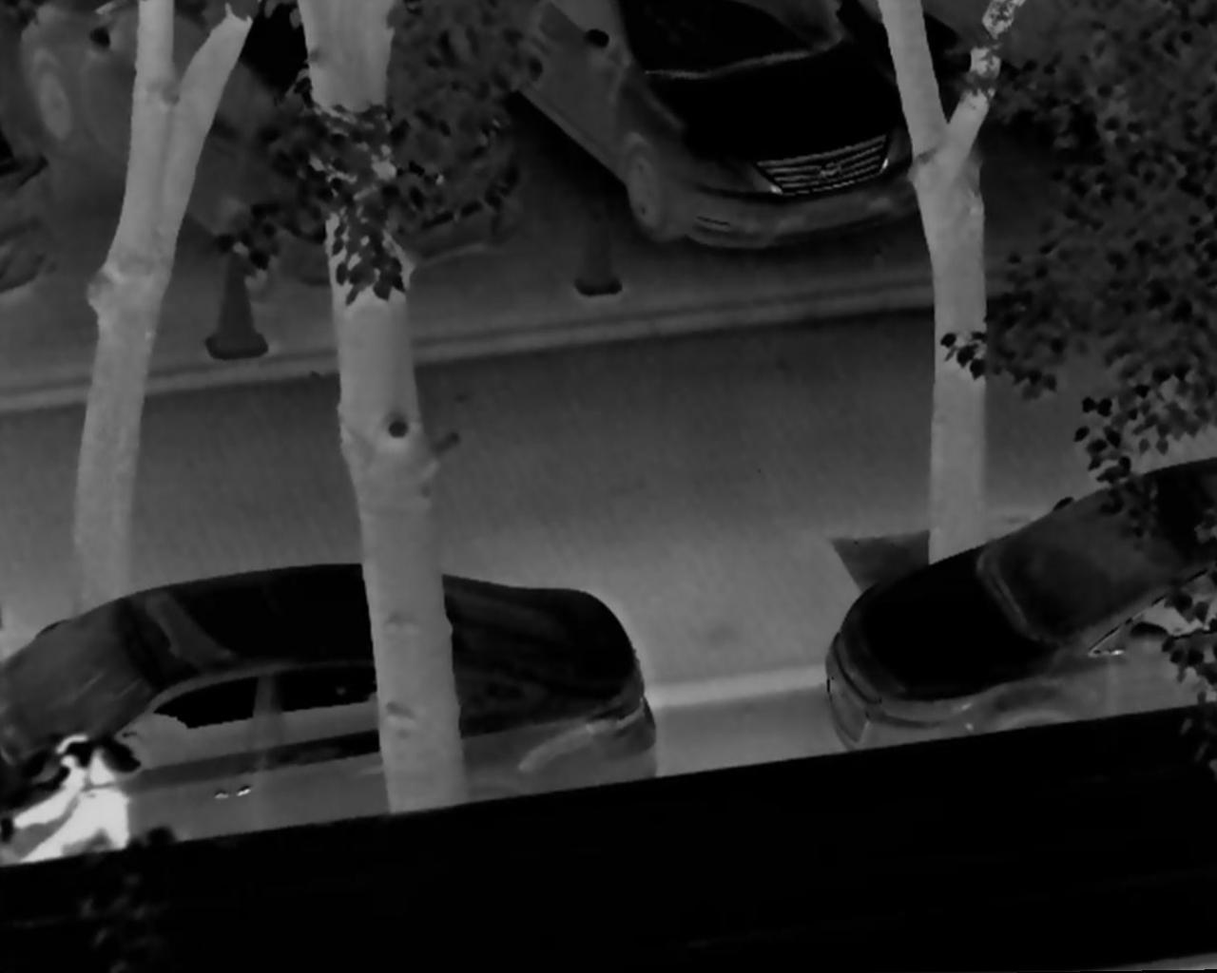person: (10, 731, 140, 878)
